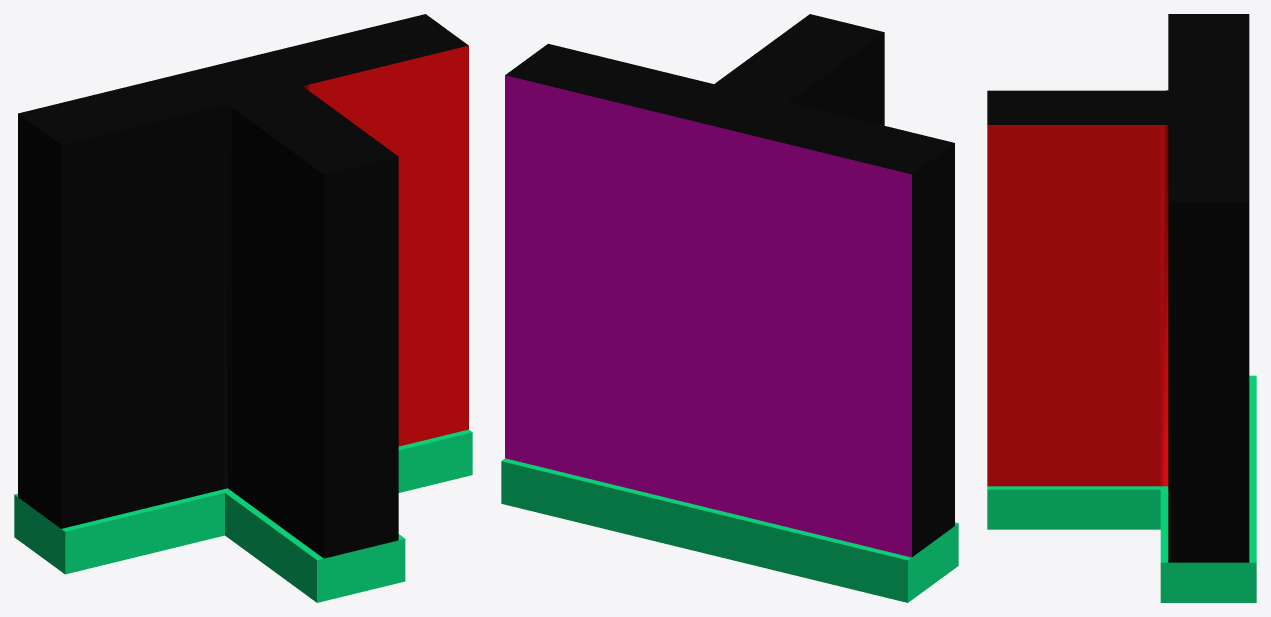
Rendered from Wall_T_T.fbx.
The picture shows the model from 3 angles, left to right: view 1: azimuth 30°, elevation 25°; view 2: azimuth 150°, elevation 25°; view 3: azimuth 270°, elevation 25°; orthographic projection. The views are drawn at different scales.
Parts seen in each view (by area): view 1: Wall_T; view 2: Wall_T; view 3: Wall_T.
Part boxes in pixels (x1,y1,x2,y2): Wall_T: (14,14,472,602); Wall_T: (501,14,958,602); Wall_T: (987,14,1256,602).
Bounding box in the file's own units: 300 × 300 × 183.
